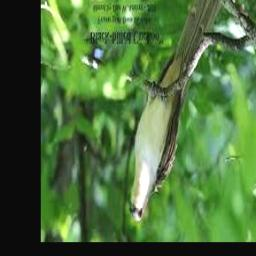Cuckoo: (129, 0, 228, 221)
